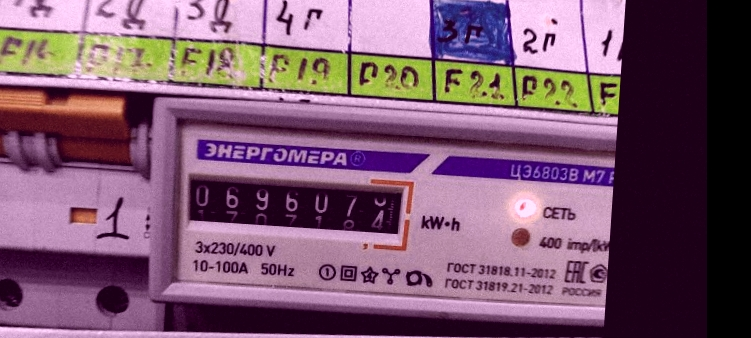0: (192, 182, 211, 207), (312, 188, 329, 214)
4: (368, 206, 385, 231)
6: (222, 184, 241, 209), (282, 187, 301, 212)
7: (342, 192, 358, 219)
9: (252, 186, 270, 211)
screen: (171, 158, 418, 248)
